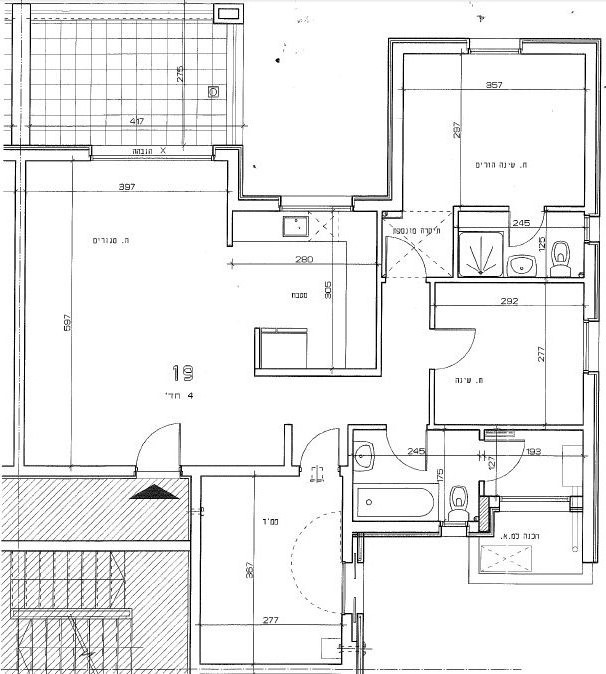door: (436, 322, 489, 379), (382, 221, 435, 278), (131, 415, 188, 463), (486, 435, 538, 487), (381, 430, 431, 475), (299, 420, 345, 467), (499, 212, 550, 253)
window: (90, 145, 213, 159), (499, 494, 569, 512), (280, 195, 351, 210), (465, 38, 522, 56), (582, 318, 599, 372), (584, 214, 600, 243)
